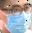with_mask: (1, 1, 32, 33)
